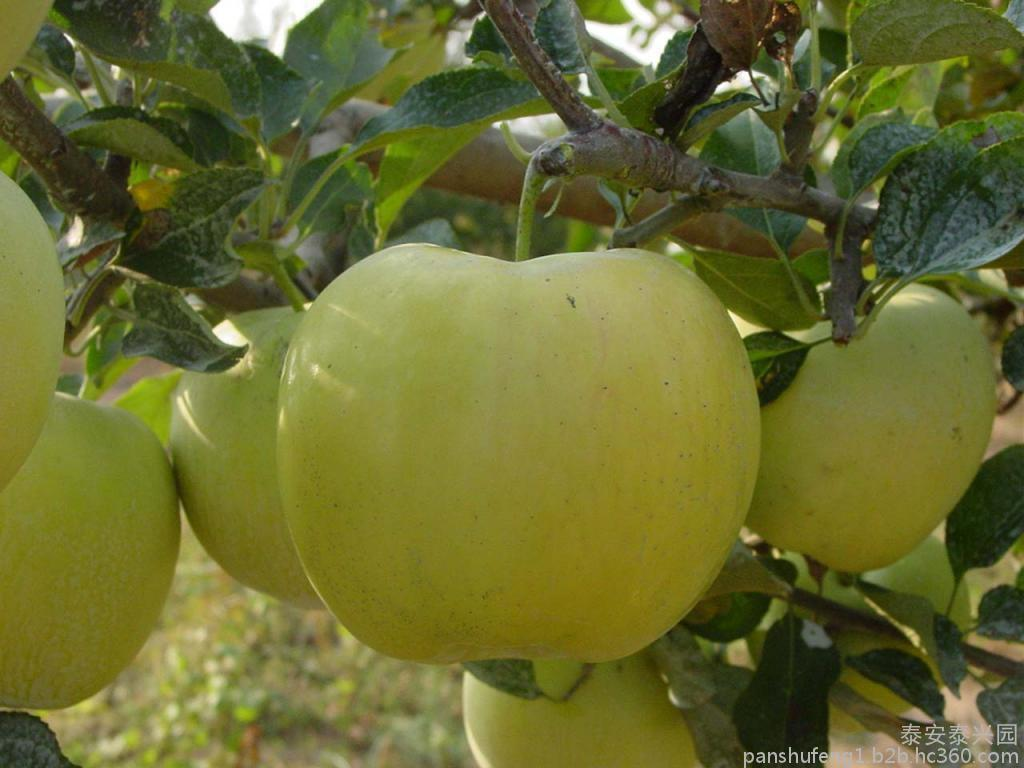apple: (277, 243, 758, 657), (733, 275, 994, 574), (2, 391, 181, 711), (173, 301, 327, 615)
